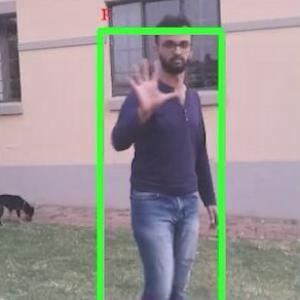follow_hand: (121, 52, 182, 124)
